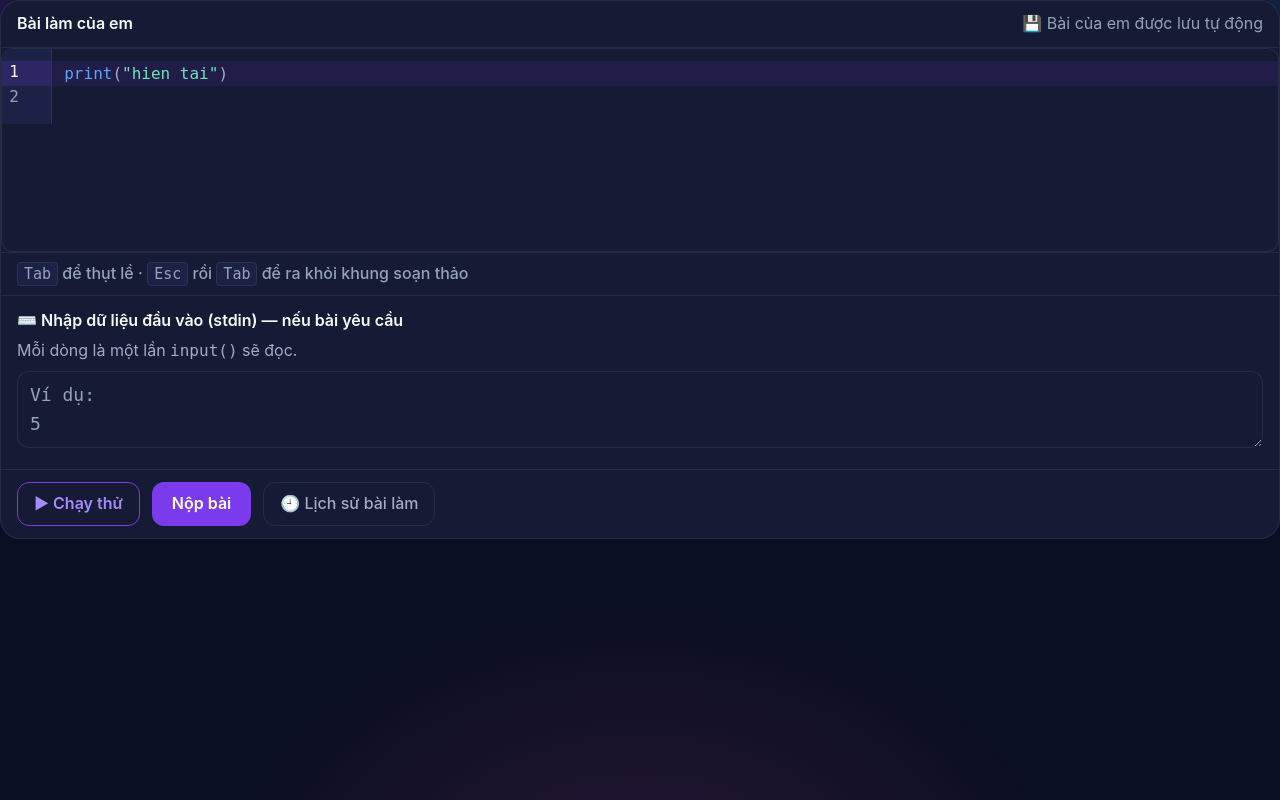
Test case: Khu làm bài › tự hỏi lại kết quả khi bài đang chờ chấm
Click the button "Nộp bài".
click(202, 504)  # box [152,482,251,526]
(page scrolled)
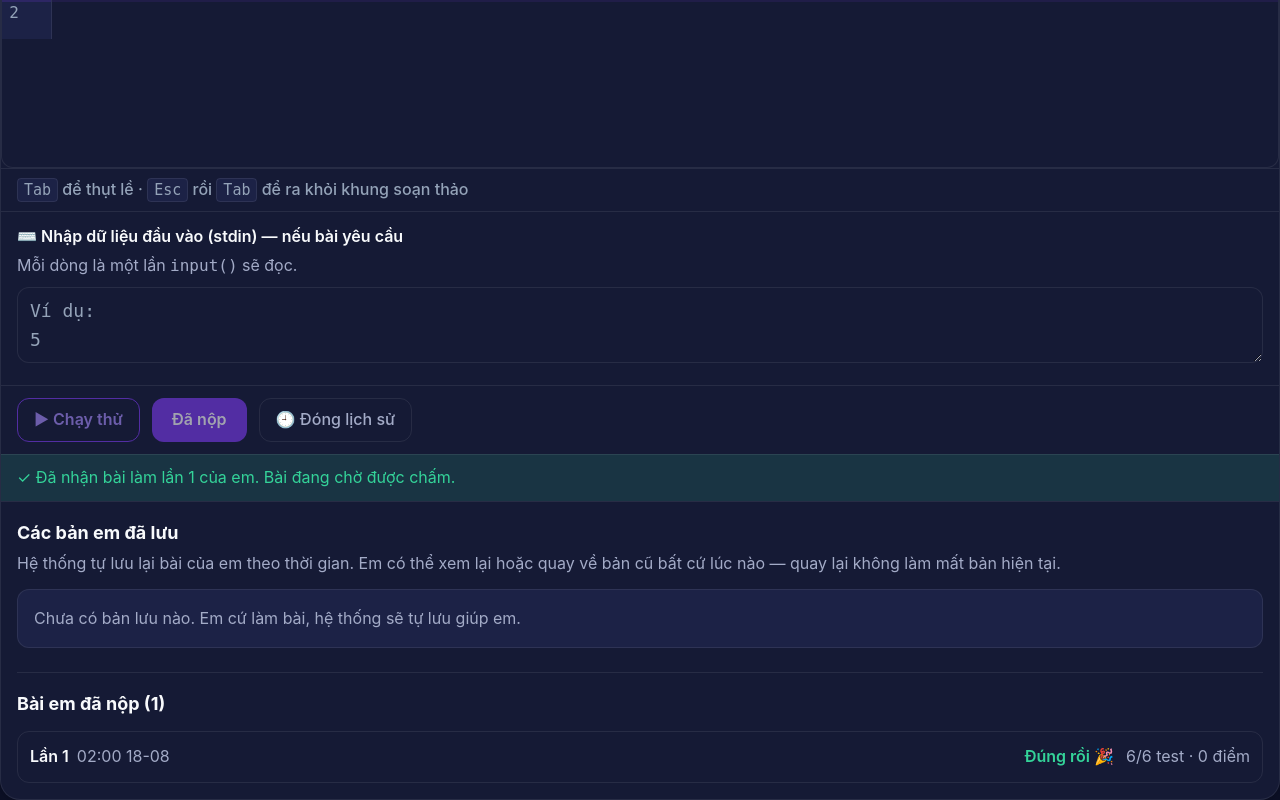
Expected: the text "Đúng rồi 🎉" is shown, [1024,744,1114,770]
Expected: the text "6/6 test · 0 điểm" is shown, [1126,744,1250,770]
